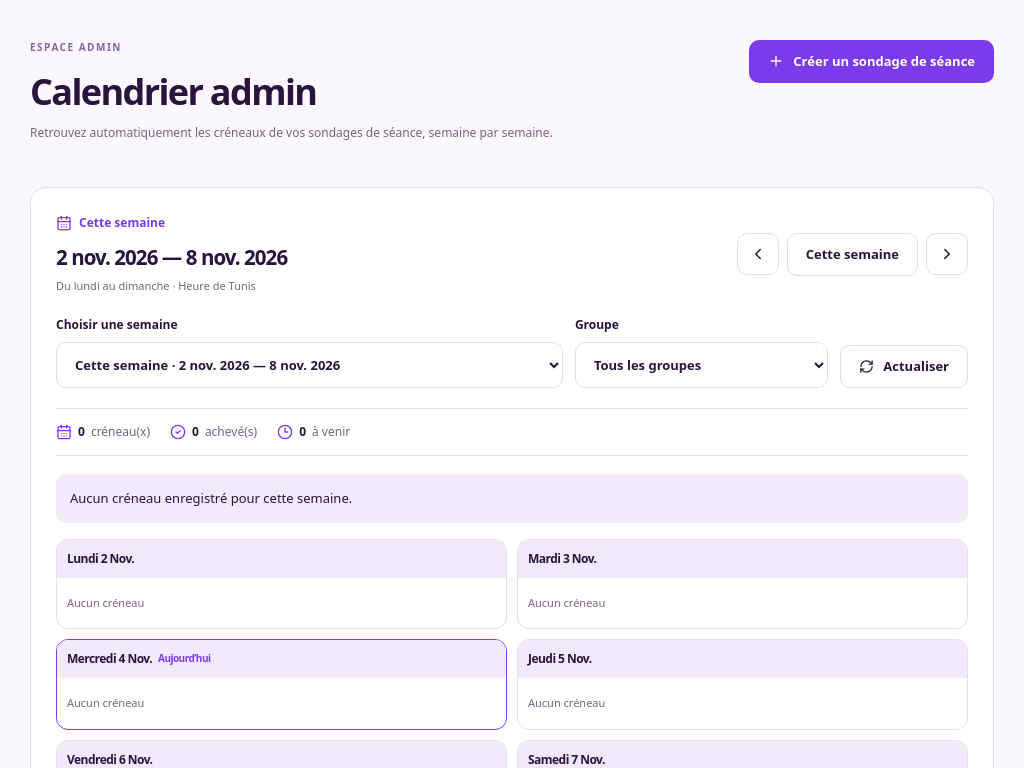
Test: navigates to future and historical weeks, filters groups and opens poll votes
This screenshot has width=1024, height=768.
Click the button named "Semaine suivante": (947, 254) [926, 233, 968, 275]
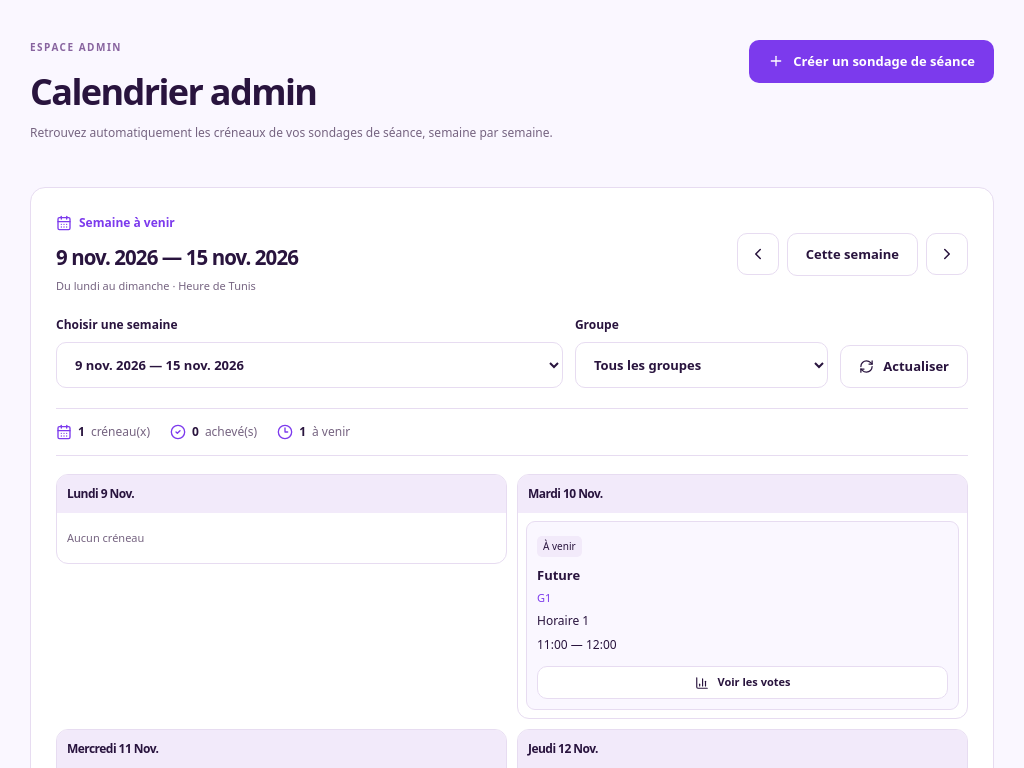
Expected: the heading "Future" is shown, [537, 566, 580, 584]
Click the button with aria-label "Voir les votes : Future · Horaire 1": (742, 683) [537, 666, 948, 699]
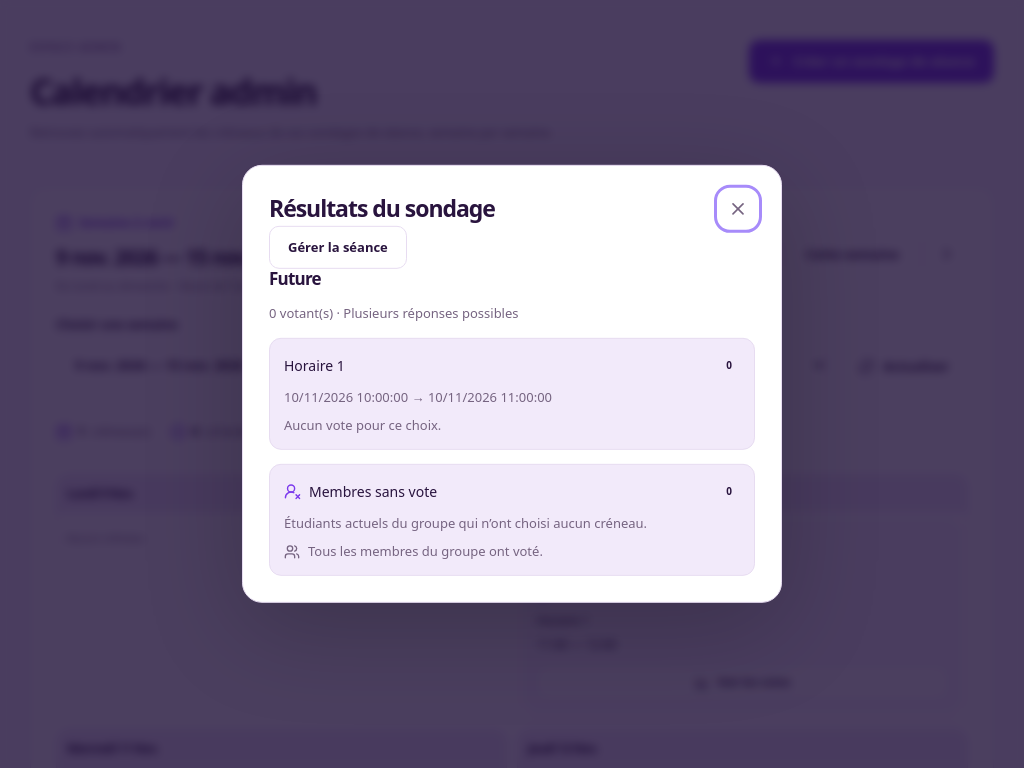
Expected: the dialog "Résultats du sondage" is shown, [242, 165, 782, 603]
